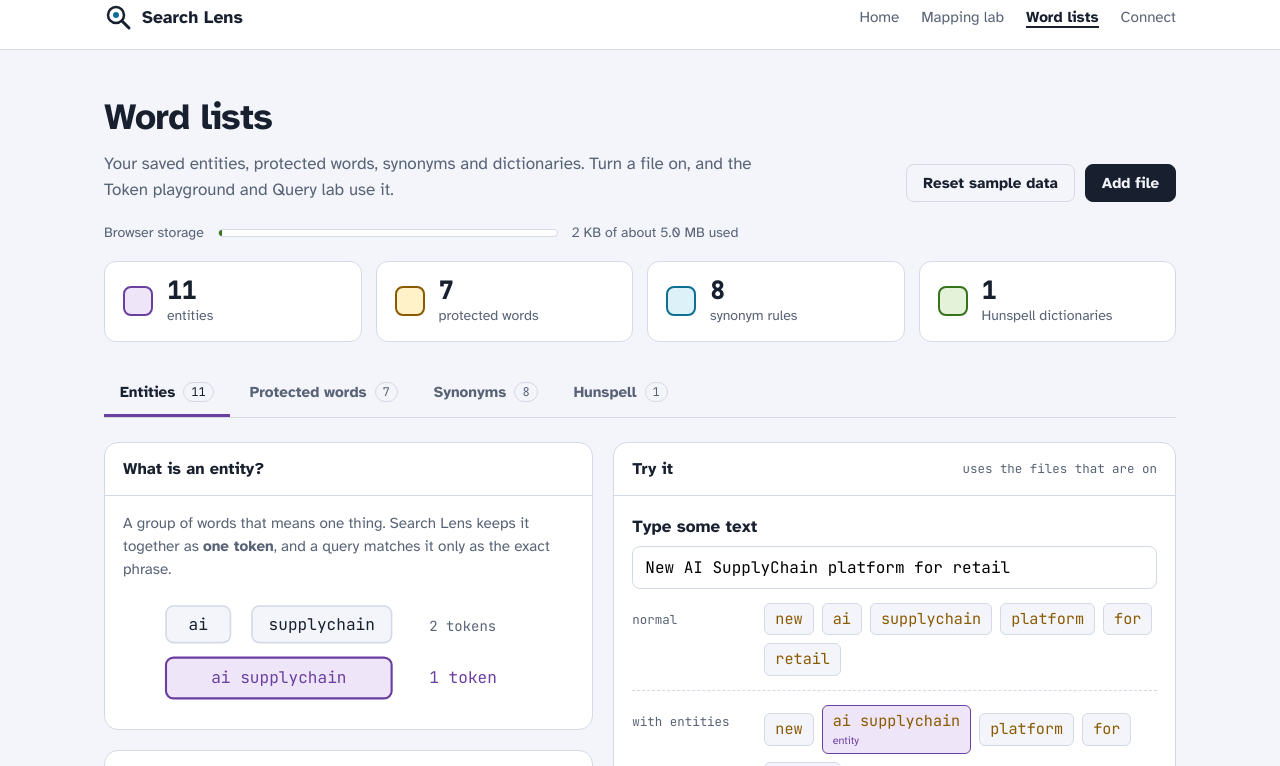
Test: Word lists page › R3.1 and R3.2 join entities into one token, longest first
Replace the text in the field labelled "Type some text" with "Our supply chain management and AI SupplyChain" at (895, 567), box [632, 546, 1157, 589]
(page scrolled)
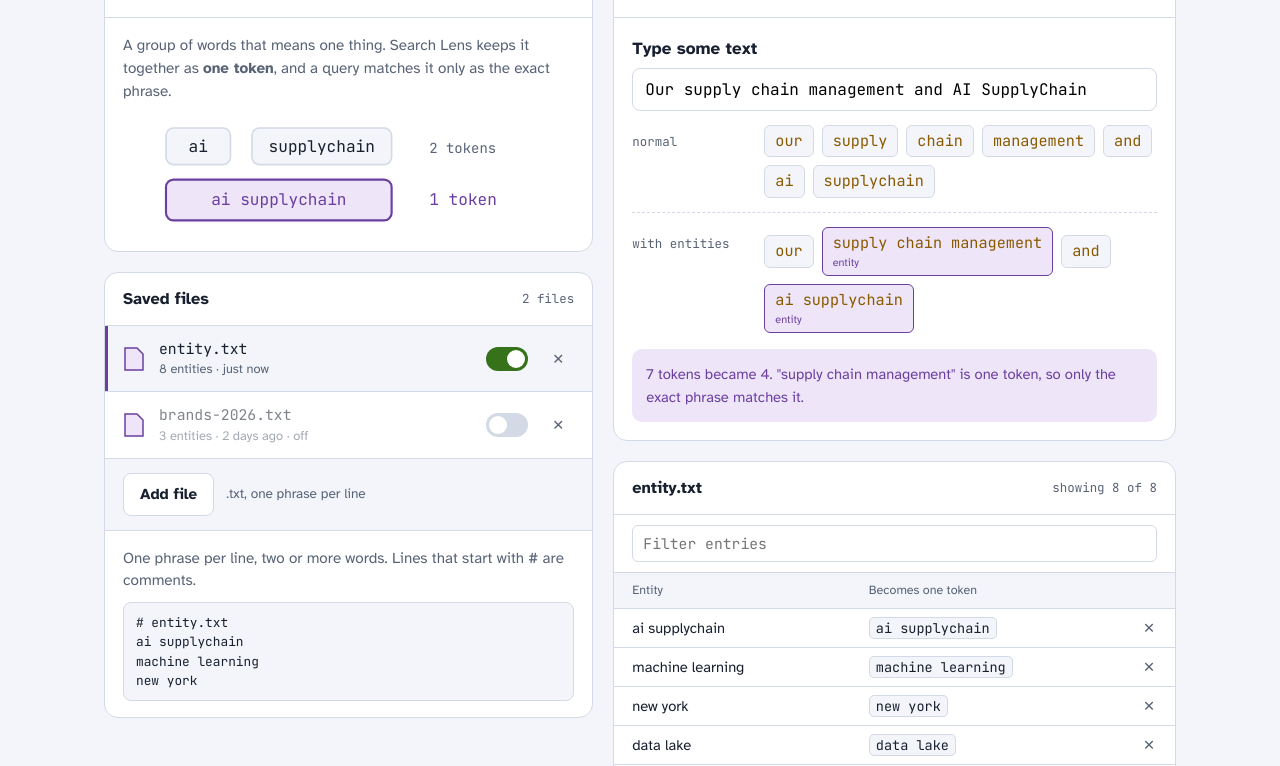
Now the text "supply chain management" is shown, box [833, 232, 1042, 253]
Now the text "ai supplychain" is shown, box [775, 289, 903, 310]
Now the text "7 tokens became 4." is shown, box [646, 366, 1116, 406]
